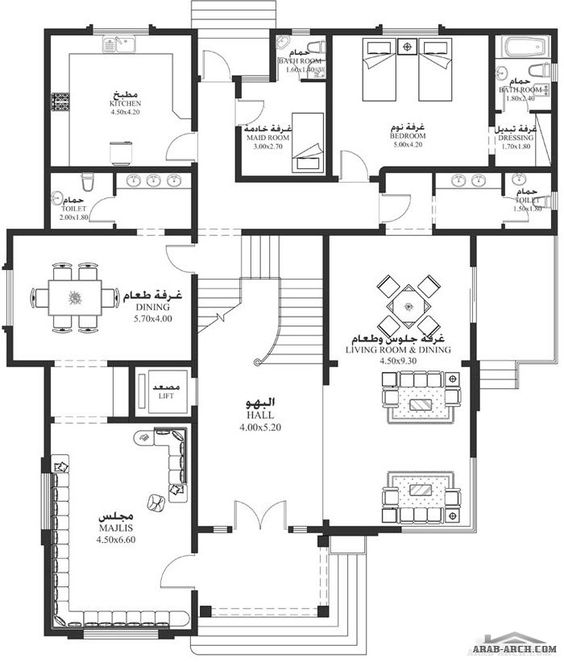door: (231, 495, 288, 533), (154, 554, 200, 591), (378, 192, 412, 225), (163, 243, 196, 276), (163, 132, 198, 163), (338, 149, 369, 181), (201, 49, 232, 80), (236, 98, 268, 125), (86, 197, 118, 224)
room: (321, 229, 475, 534), (42, 416, 197, 637), (5, 229, 197, 368), (324, 28, 494, 172), (44, 29, 197, 171)
window: (82, 628, 160, 640), (39, 471, 52, 530), (1, 267, 14, 326)
